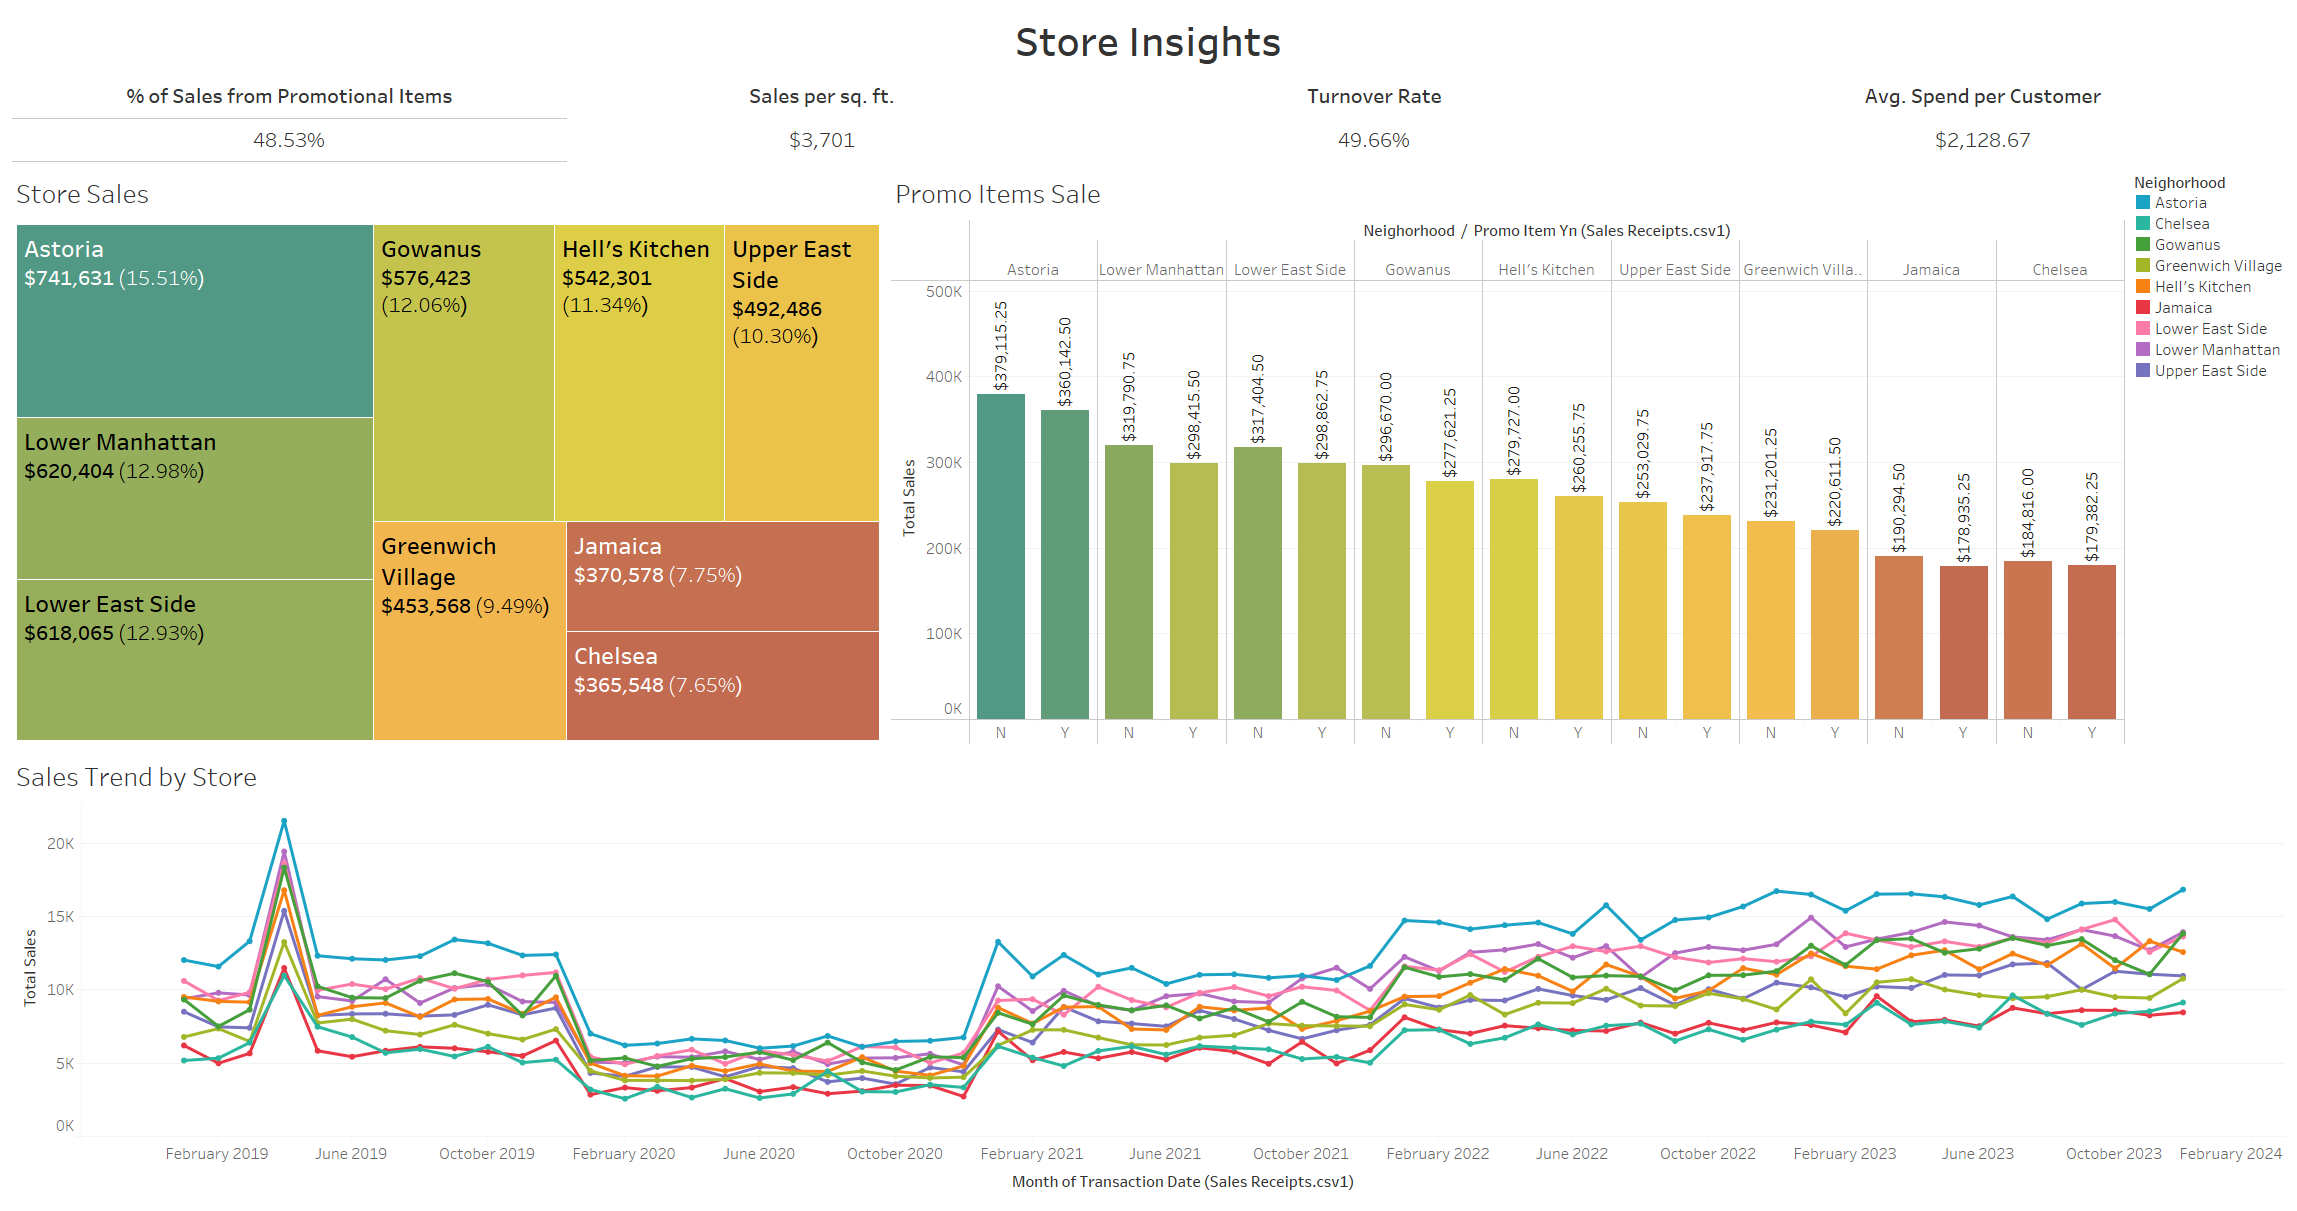

Layout of this report page (visuals, bound fields, positions):
{"tool":"tableau","page":{"name":"Store Insights","canvas":[1000,1000],"units":"permille","ordinal":3},"visuals":[{"type":"title","box":[3.6,6.6,992.9,52]},{"type":"worksheet","title":"% Promo Item Sales","mark":"Automatic","rows":["Promo_Item_Yn (Sales Receipts.csv1)"],"box":[3.6,58.6,245.1,78.6]},{"type":"worksheet","title":"Sales per Square Feet","mark":"Automatic","box":[248.7,58.6,218.7,78.6]},{"type":"worksheet","title":"Turnover Rate","mark":"Automatic","box":[467.4,58.6,262.6,78.6]},{"type":"worksheet","title":"Avg. Spend per Customer","mark":"Automatic","box":[729.9,58.6,266.5,78.6]},{"type":"worksheet","title":"Store Sales","mark":"Automatic","box":[3.6,137.2,382.7,481.2]},{"type":"worksheet","title":"Promo Items Sale","mark":"Automatic","rows":["Total Sales (Sales Receipts.csv1)"],"cols":["Neighorhood","Promo_Item_Yn (Sales Receipts.csv1)"],"box":[386.3,137.2,538.8,481.2]},{"type":"legend","title":"Sales Trend by Store","param":"[federated.08khc321xdyzkm114h3me09xxc6f].[none:Neighorhood:nk]","box":[925.1,137.2,71.4,180.8]},{"type":"worksheet","title":"Sales Trend by Store","mark":"Automatic","rows":["Total Sales (Sales Receipts.csv1)"],"cols":["Transaction_Date (Sales Receipts.csv1)"],"box":[3.6,618.4,992.9,375]}]}

Visuals, with their boxes on the dashboard's canvas, which has no fixed pixel size, in thousandths of its width and height (x1, y1, x2, y2). These are canvas units, not pixel positions in the 2297x1211 screenshot, which may show the page scaled, cropped or inside an application window:
title: locate(4, 7, 996, 59)
"% Promo Item Sales" worksheet: locate(4, 59, 249, 137)
"Sales per Square Feet" worksheet: locate(249, 59, 467, 137)
"Turnover Rate" worksheet: locate(467, 59, 730, 137)
"Avg. Spend per Customer" worksheet: locate(730, 59, 996, 137)
"Store Sales" worksheet: locate(4, 137, 386, 618)
"Promo Items Sale" worksheet: locate(386, 137, 925, 618)
"Sales Trend by Store" legend: locate(925, 137, 996, 318)
"Sales Trend by Store" worksheet: locate(4, 618, 996, 993)
